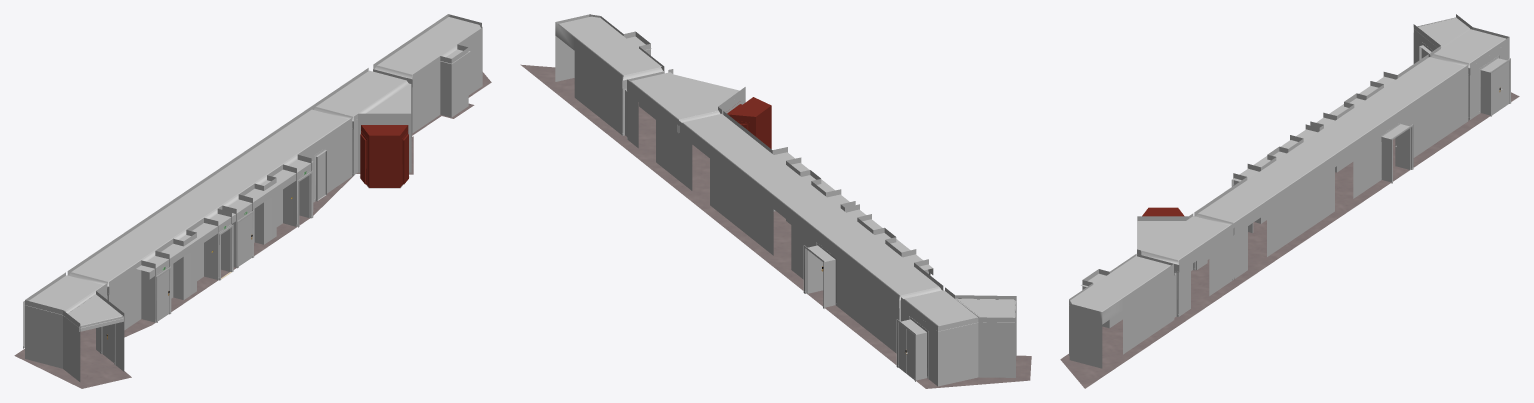
The model's file is Hallway_Right.fbx.
The picture shows the model from 3 angles, left to right: view 1: azimuth 90°, elevation 25°; view 2: azimuth 150°, elevation 25°; view 3: azimuth 270°, elevation 25°; orthographic projection. The views are drawn at different scales.
Visible parts, largest first — view 1: polySurface1608, polySurface1598, polySurface1607; view 2: polySurface1608, polySurface1598, polySurface1607; view 3: polySurface1608, polySurface1598, polySurface1607.
Part boxes in pixels (box(x1,y1,x2,y2)): polySurface1608: box(14, 14, 491, 388); polySurface1598: box(23, 87, 412, 365); polySurface1607: box(26, 45, 457, 328); polySurface1608: box(520, 14, 1031, 388); polySurface1598: box(622, 87, 930, 381); polySurface1607: box(558, 24, 1016, 331); polySurface1608: box(1060, 14, 1519, 388); polySurface1598: box(1174, 42, 1511, 319); polySurface1607: box(1070, 29, 1505, 311).
Bounding box in the file's own units: 3554 × 289 × 2127.
